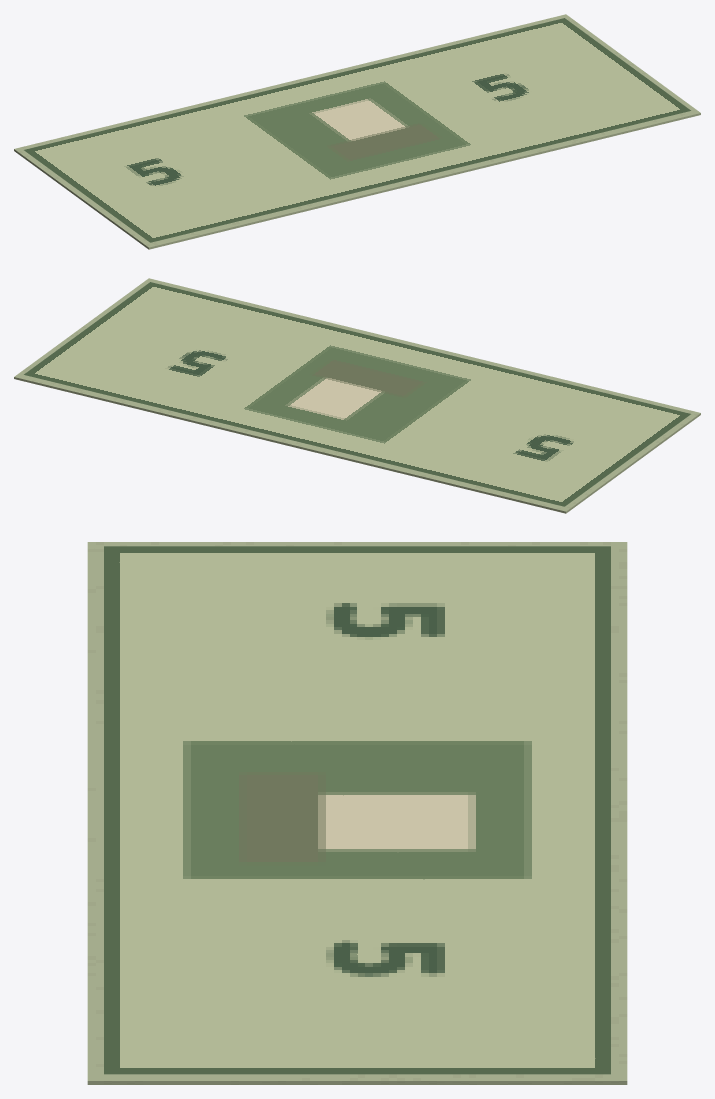
Rendered from money_five.glb.
The picture shows the model from 3 angles, top to bottom: view 1: azimuth 30°, elevation 25°; view 2: azimuth 150°, elevation 25°; view 3: azimuth 270°, elevation 25°; orthographic projection. The views are drawn at different scales.
Parts seen in each view (by area): view 1: block_printed face, block_item backing; view 2: block_printed face, block_item backing; view 3: block_printed face, block_item backing.
Part boxes in pixels (x1=…): block_printed face: x1=24, y1=18, x2=690, y2=242; block_item backing: x1=14, y1=14, x2=700, y2=249; block_printed face: x1=24, y1=282, x2=690, y2=506; block_item backing: x1=14, y1=278, x2=700, y2=513; block_printed face: x1=104, y1=546, x2=610, y2=1074; block_item backing: x1=87, y1=542, x2=627, y2=1084.
Size of the model in its own units: 0.156 by 0.0007 by 0.066.
1 material, 1 textured.
